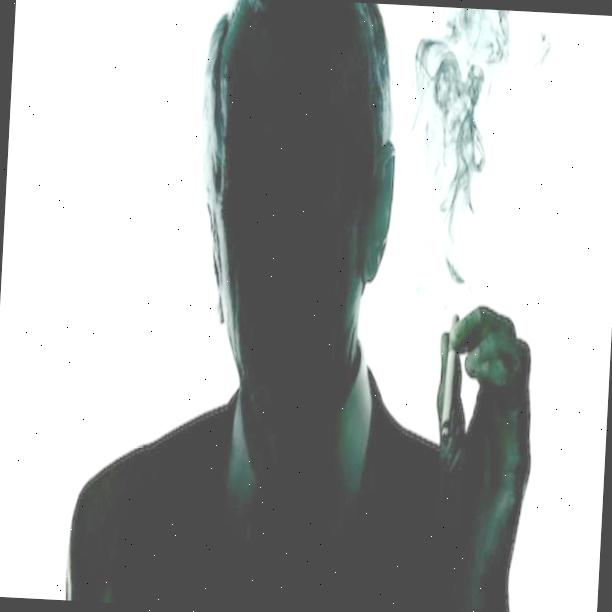smoke: (409, 5, 515, 248)
